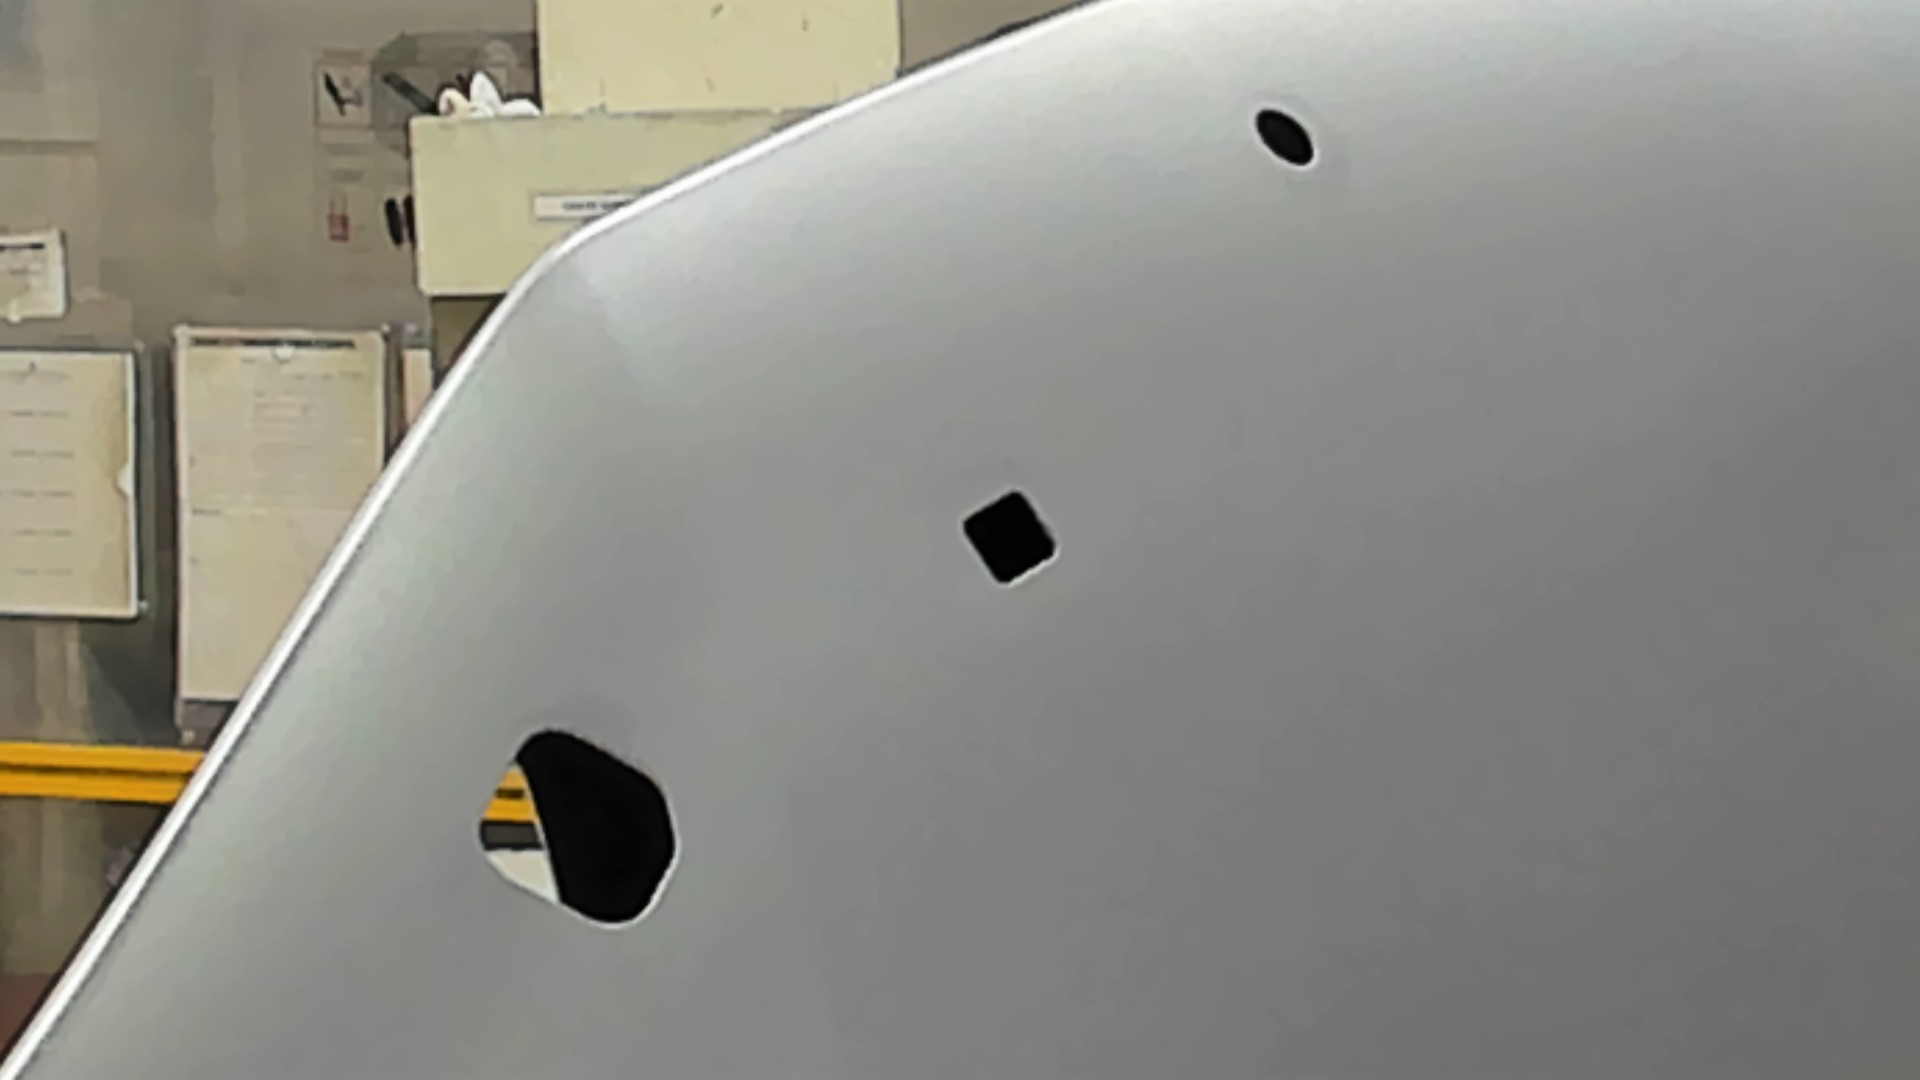chico: (1251, 102, 1320, 170)
grande: (468, 720, 688, 936)
mediano: (961, 483, 1063, 592)
